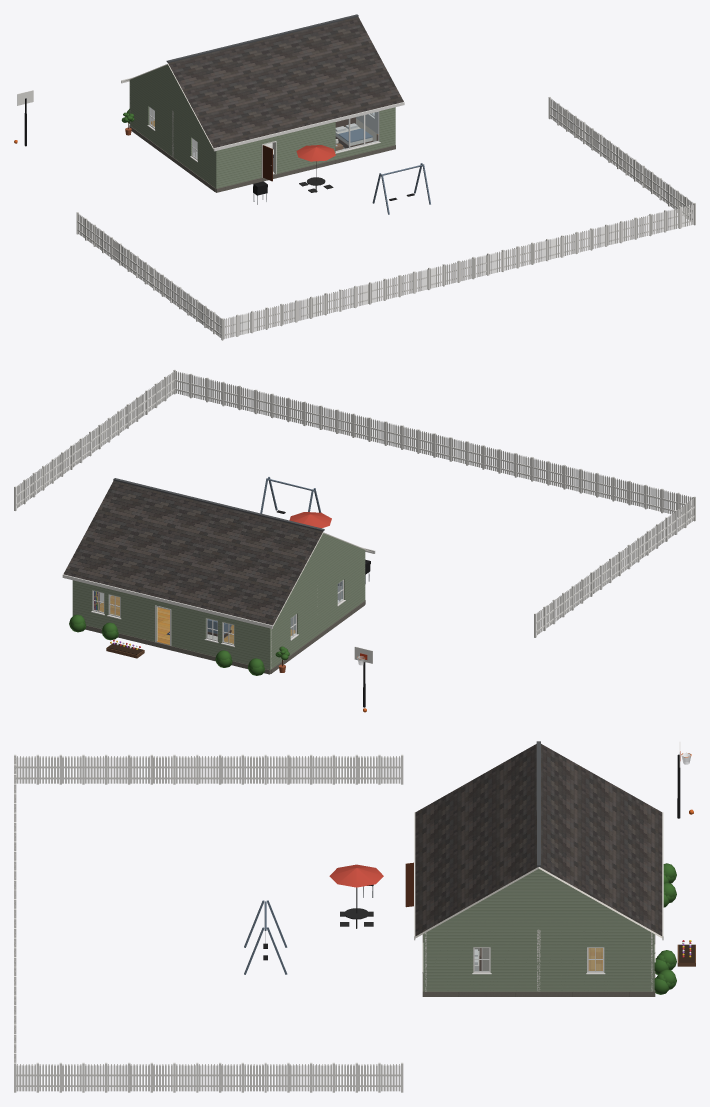
File: house_S2.glb
3 renders of one model, top to bottom at view 1: azimuth 30°, elevation 25°; view 2: azimuth 150°, elevation 25°; view 3: azimuth 270°, elevation 25°, orthographic. The views are drawn at different scales.
Bounding box in the file's own units: 32.1 × 6.61 × 29.95.
Materials: 14 (14 with a texture image).
